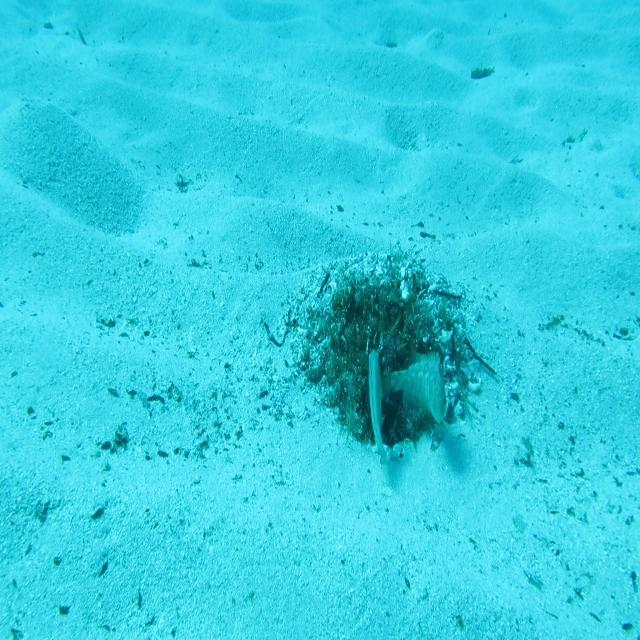DAN_CIRC: (380, 348, 449, 427)
core_nest: (356, 296, 397, 342)
female: (368, 347, 392, 475)
nest: (279, 232, 487, 475)
vegetation: (468, 64, 496, 83)
